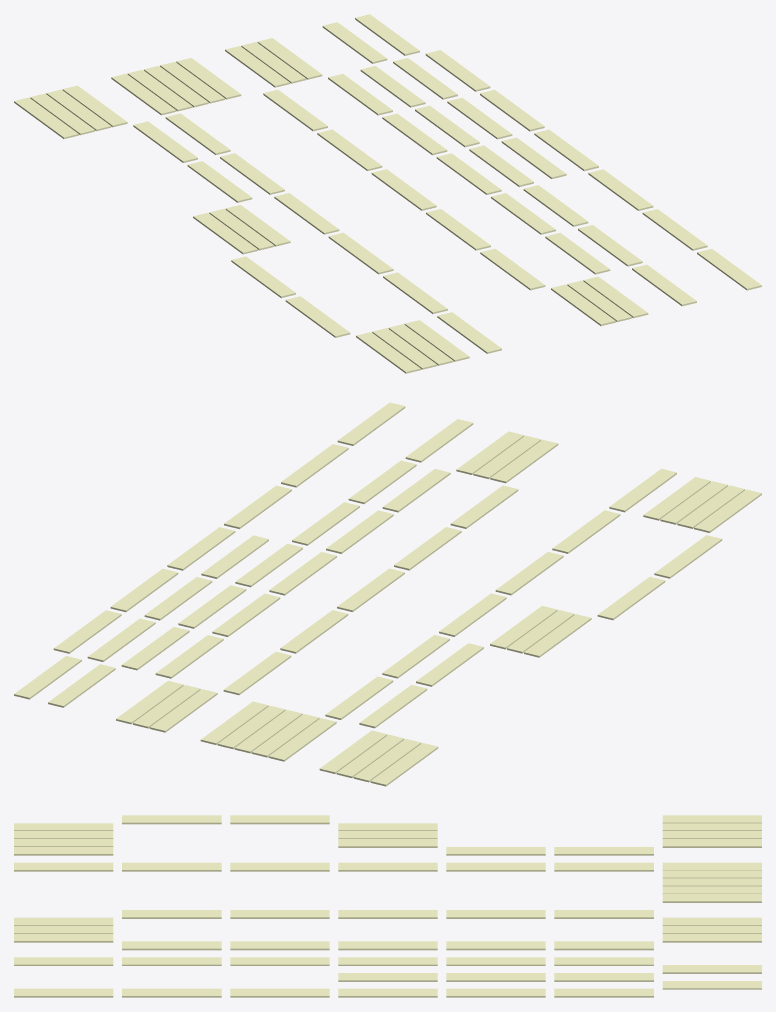
Rendered from marking_slow_text_white.glb.
3 views of the same model, one above another, from view 1: azimuth 30°, elevation 25°; view 2: azimuth 150°, elevation 25°; view 3: azimuth 270°, elevation 25° (orthographic). The views are drawn at different scales.
Parts seen in each view (by area): view 1: slow_09, slow_18, slow_29, slow_34, slow_46, slow_54, slow_00, slow_15, slow_21, slow_35, slow_45, slow_55 (+47 smaller); view 2: slow_35, slow_50, slow_51, slow_04, slow_05, slow_29, slow_37, slow_52, slow_53, slow_56, slow_11, slow_26 (+47 smaller); view 3: slow_04, slow_05, slow_16, slow_17, slow_18, slow_19, slow_20, slow_30, slow_32, slow_34, slow_36, slow_38 (+47 smaller).
Boxes of the visible parts, x1=… form: slow_09: x1=187, y1=161, x2=252, y2=202; slow_18: x1=274, y1=193, x2=339, y2=234; slow_29: x1=480, y1=248, x2=545, y2=290; slow_34: x1=436, y1=153, x2=501, y2=194; slow_46: x1=523, y1=185, x2=588, y2=226; slow_54: x1=360, y1=66, x2=425, y2=107; slow_00: x1=356, y1=332, x2=420, y2=373; slow_15: x1=437, y1=312, x2=501, y2=353; slow_21: x1=111, y1=73, x2=176, y2=115; slow_35: x1=317, y1=129, x2=382, y2=170; slow_45: x1=642, y1=209, x2=707, y2=250; slow_55: x1=393, y1=58, x2=457, y2=99; slow_35: x1=280, y1=610, x2=348, y2=653; slow_50: x1=167, y1=527, x2=235, y2=570; slow_51: x1=178, y1=585, x2=246, y2=628; slow_04: x1=654, y1=535, x2=722, y2=578; slow_05: x1=597, y1=576, x2=665, y2=620; slow_29: x1=450, y1=485, x2=518, y2=528; slow_37: x1=223, y1=651, x2=291, y2=695; slow_52: x1=144, y1=577, x2=212, y2=620; slow_53: x1=110, y1=568, x2=178, y2=612; slow_56: x1=53, y1=610, x2=121, y2=653; slow_11: x1=370, y1=743, x2=438, y2=786; slow_26: x1=490, y1=439, x2=558, y2=483; slow_04: x1=122, y1=815, x2=221, y2=824; slow_05: x1=230, y1=815, x2=329, y2=824; slow_16: x1=122, y1=862, x2=221, y2=871; slow_17: x1=230, y1=862, x2=329, y2=871; slow_18: x1=338, y1=862, x2=437, y2=871; slow_19: x1=446, y1=862, x2=545, y2=871; slow_20: x1=554, y1=862, x2=653, y2=871; slow_30: x1=122, y1=941, x2=221, y2=950; slow_32: x1=230, y1=941, x2=329, y2=950; slow_34: x1=338, y1=941, x2=437, y2=950; slow_36: x1=446, y1=941, x2=545, y2=950; slow_38: x1=554, y1=941, x2=653, y2=950.
Size of the model in its own units: 1.18 by 0.005 by 2.06.
